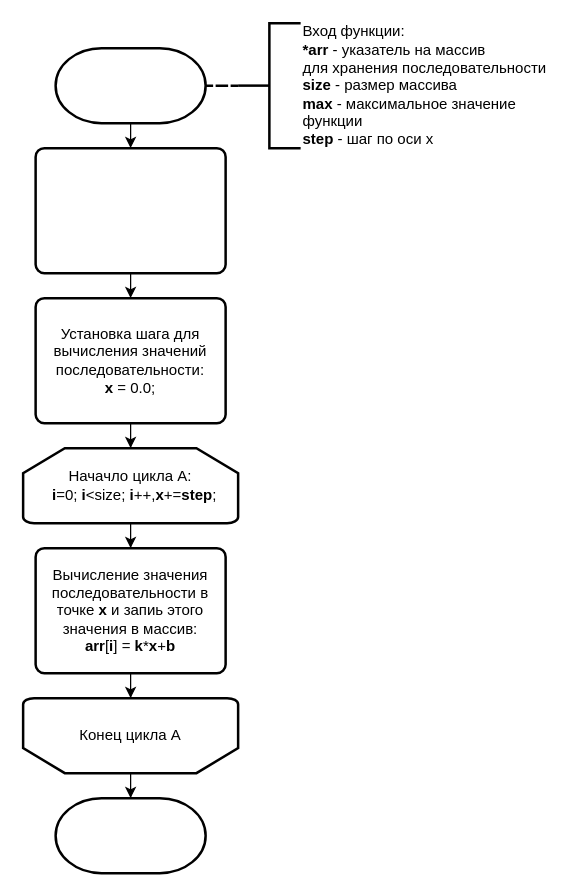
The diagram is 568 pixels wide and 895 high, and some of its shapes have lost their labels. The centre of each missing label's shape, as x and y in pixels:
"Конец f1" belongs at (x=130, y=835).
"Начало f1" belongs at (x=130, y=85).
"Установка параметров кривой: k = max /( step * size ); b = 0;" belongs at (x=130, y=210).
